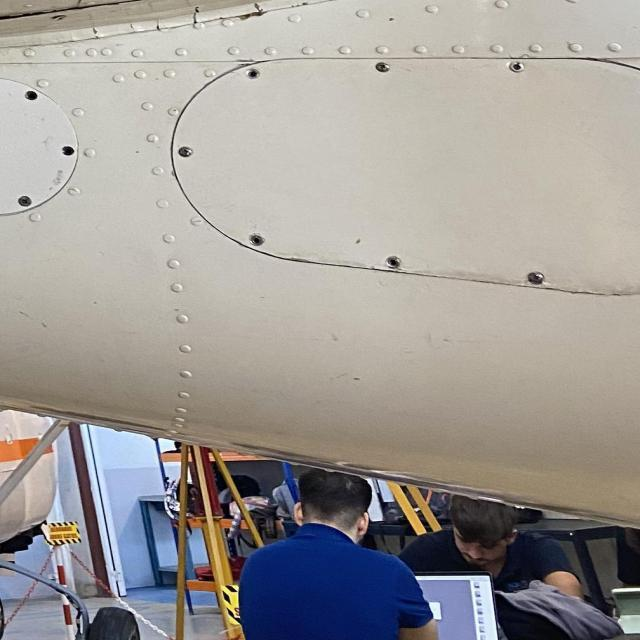Missing-head: (249, 232, 265, 247), (61, 145, 76, 157), (247, 68, 261, 80), (24, 91, 39, 100)
